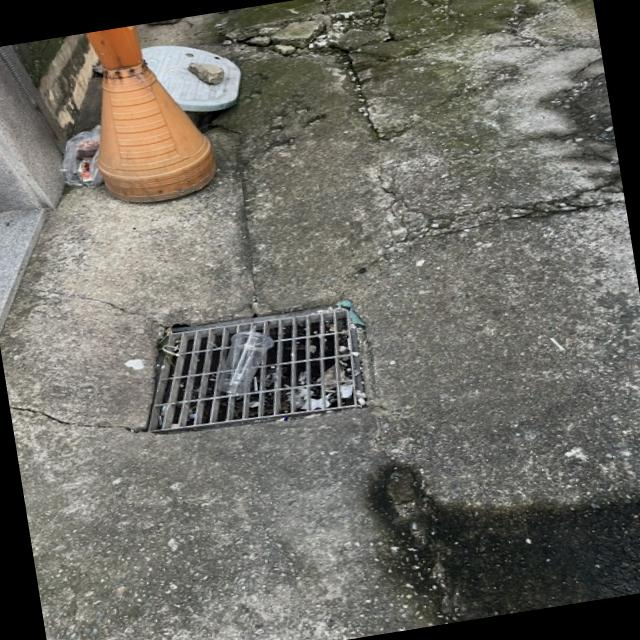drain_area: (156, 315, 339, 424)
drain_full: (149, 309, 358, 432)
